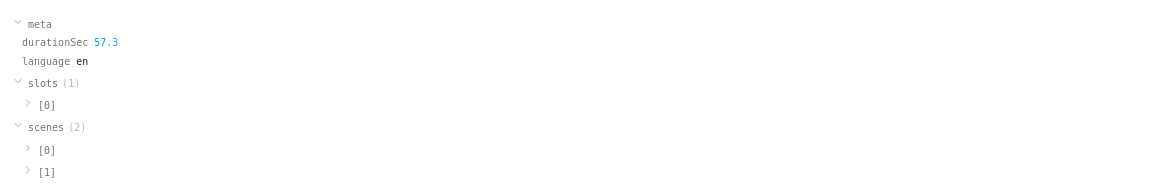
Scenario: JsonTree › marks disclosure rows with aria-expanded so the state is exposed
The image size is (1176, 195).
Step 1. Click the button "meta" → {"x": 18, "y": 22}, box [12,12,1164,34]
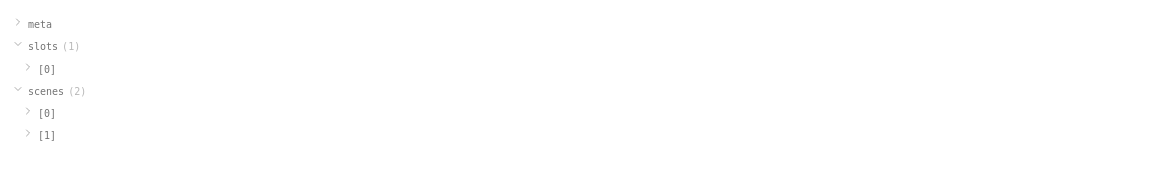
Now the button "meta" is collapsed, box [12,12,1164,34]
